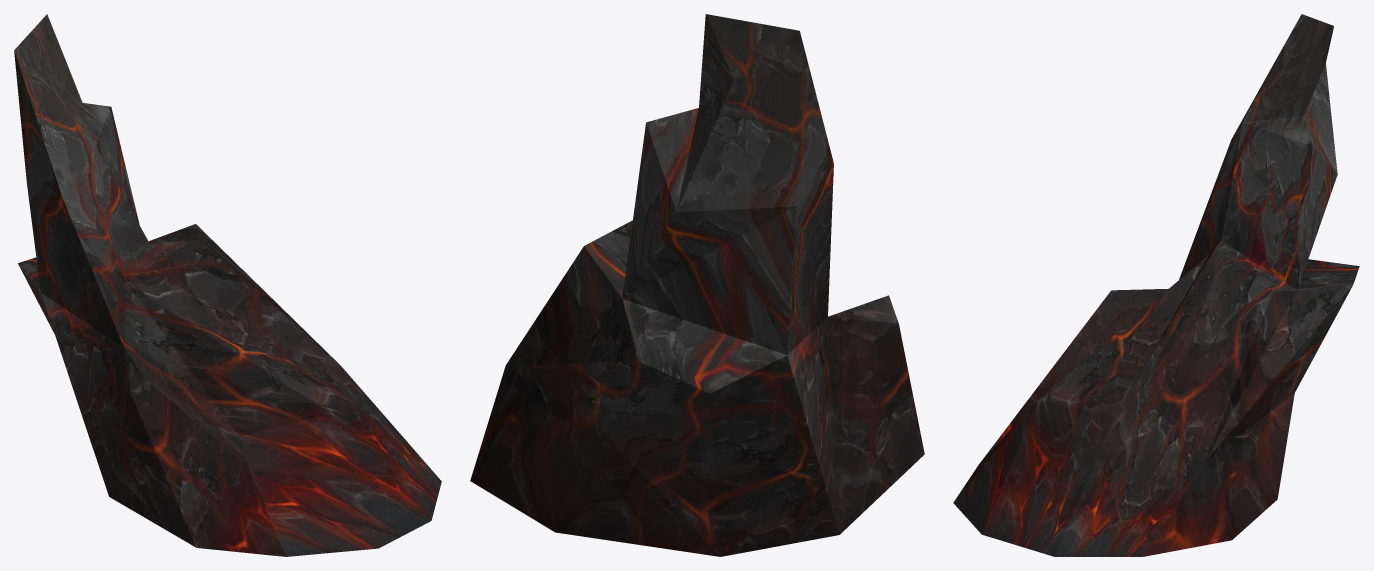
Rendered from 10504_LavaStone11.FBX.
3 renders of one model, left to right at view 1: azimuth 30°, elevation 25°; view 2: azimuth 150°, elevation 25°; view 3: azimuth 270°, elevation 25°, orthographic. The views are drawn at different scales.
Parts seen in each view (by area): view 1: Object15637; view 2: Object15637; view 3: Object15637.
Boxes of the visible parts, box(x1,y1,x2,y2) form: Object15637: box(14, 14, 441, 556); Object15637: box(470, 14, 924, 556); Object15637: box(953, 14, 1359, 556).
Bounding box in the file's own units: 726 × 977 × 872.
